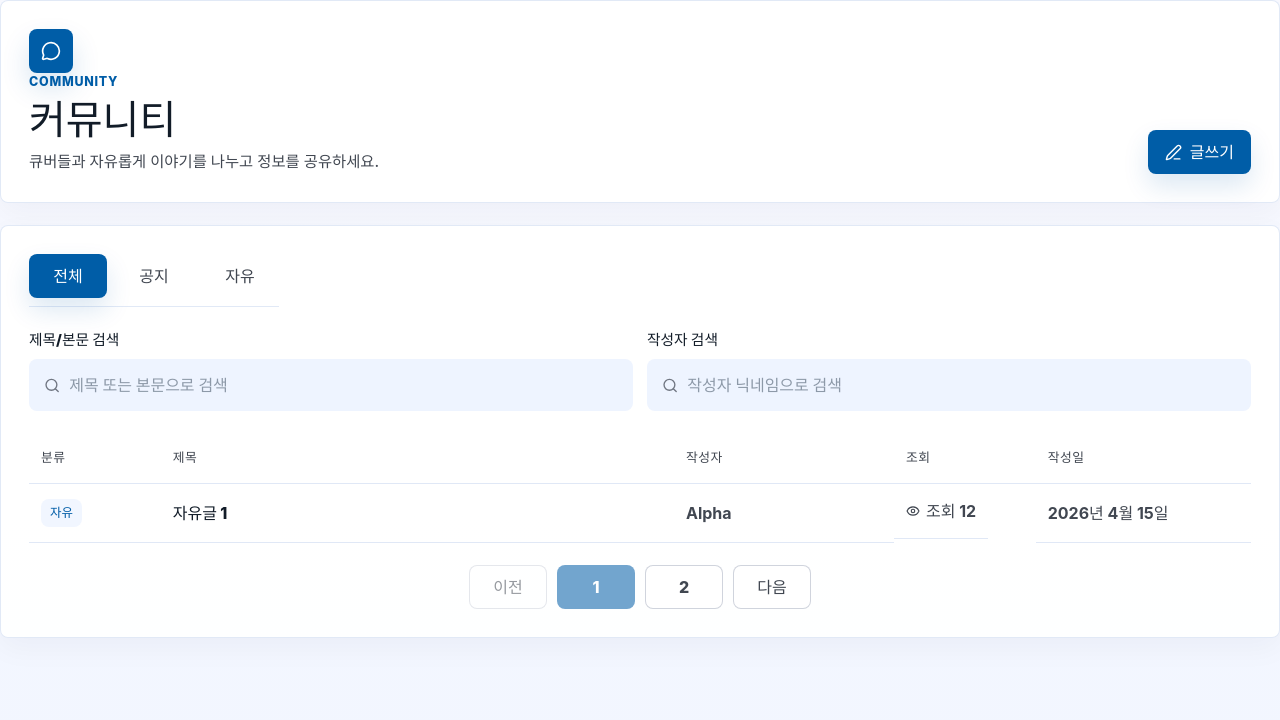
CommunityPage › should_reset_page_to_first_when_filter_changes
Expected: the text "자유글 1" is shown, [161, 483, 674, 543]
Click the button "2" at (684, 587), box [645, 565, 723, 609]
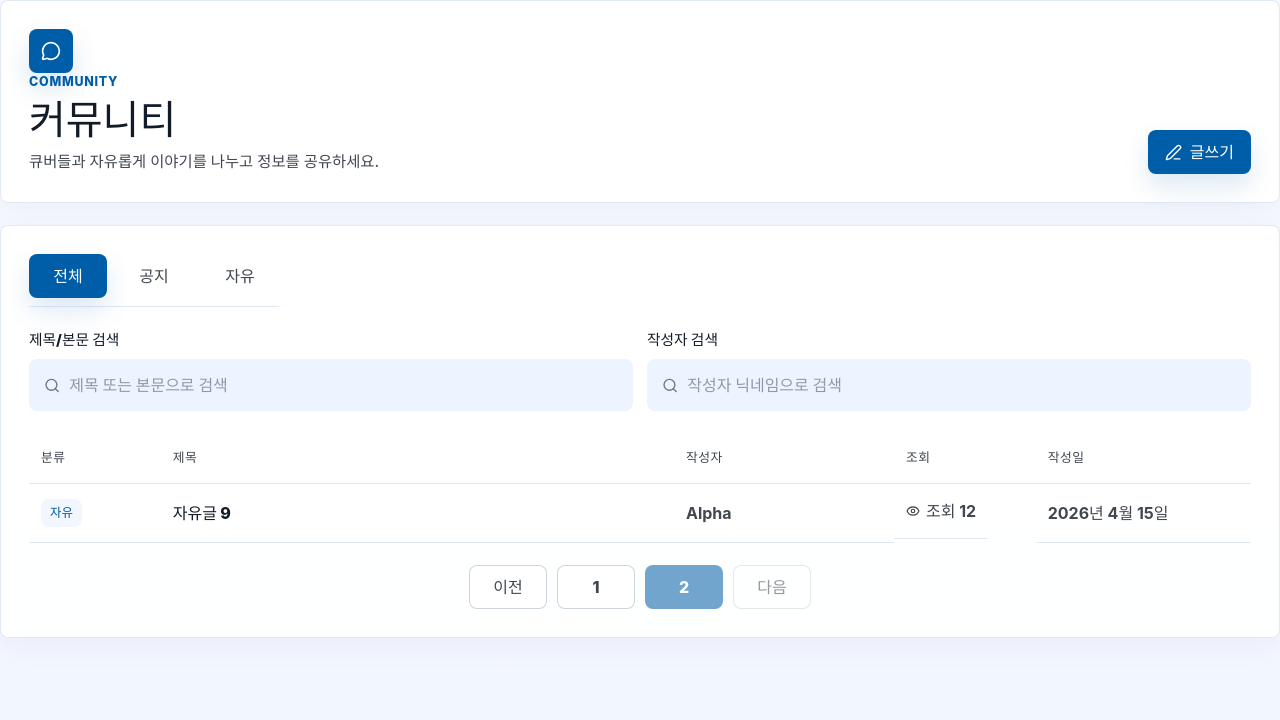
Now the text "자유글 9" is shown, box [161, 483, 674, 543]
Type "없는 검색어" into the field labelled "제목/본문 검색" at (344, 385), box [69, 373, 618, 397]
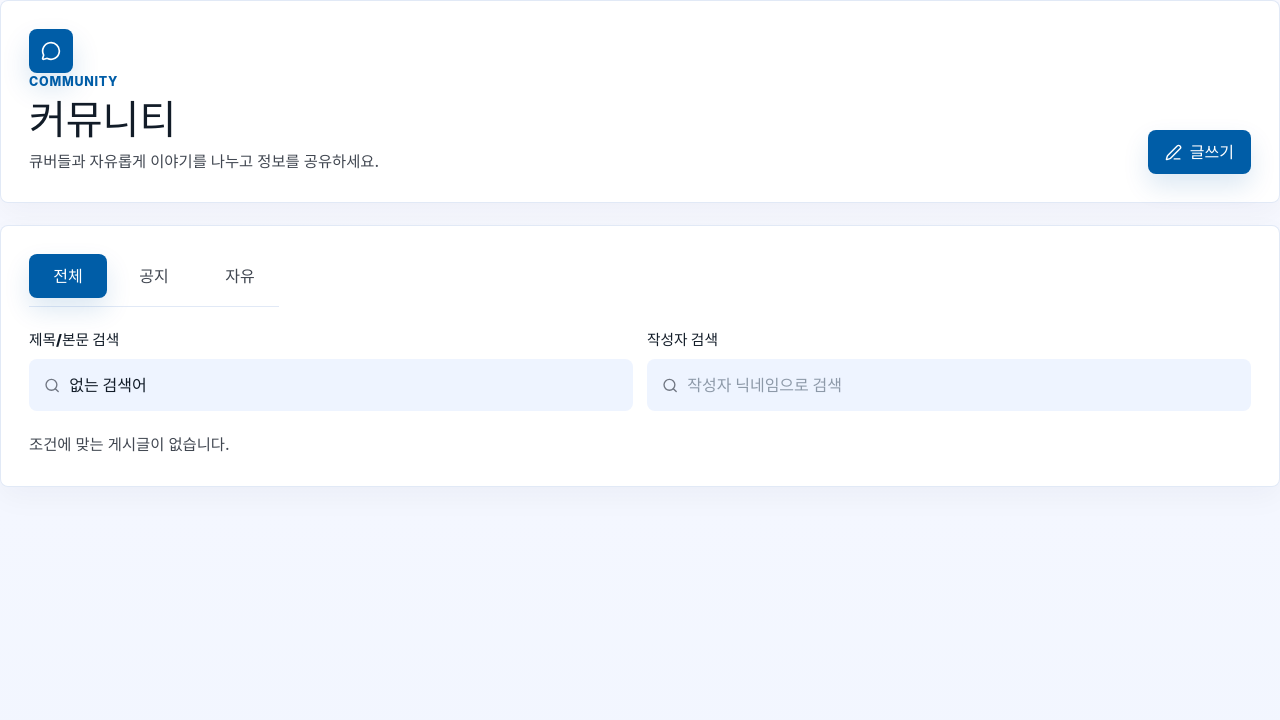
Now the text "조건에 맞는 게시글이 없습니다." is shown, box [29, 435, 230, 454]
